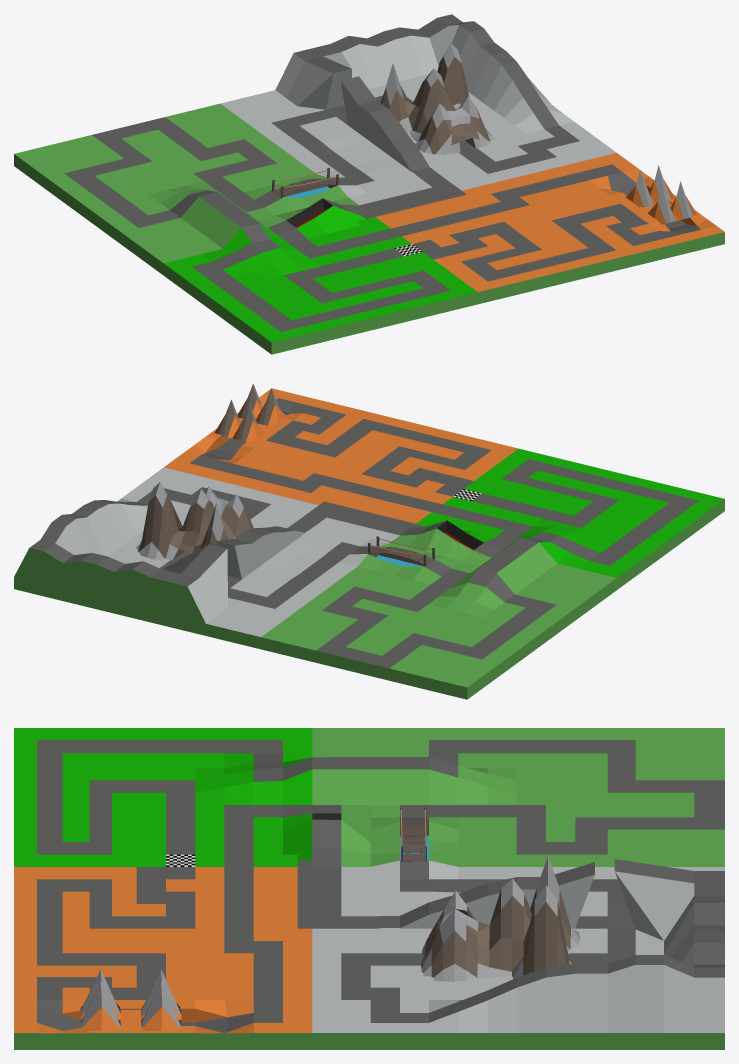
Rendered from sceneCoursePenteModifies.fbx.
3 renders of one model, top to bottom at view 1: azimuth 30°, elevation 25°; view 2: azimuth 150°, elevation 25°; view 3: azimuth 270°, elevation 25°, orthographic. The views are drawn at different scales.
Visible parts, largest first — view 1: Plane, Mountain, MountainUnder; view 2: Plane, Mountain, MountainUnder; view 3: Plane, Mountain, MountainUnder.
Boxes of the visible parts, <box> form: Plane: <box>14,14,724,354</box>; Mountain: <box>380,43,494,154</box>; MountainUnder: <box>626,165,697,224</box>; Plane: <box>14,388,724,699</box>; Mountain: <box>136,482,253,560</box>; MountainUnder: <box>214,383,286,441</box>; Plane: <box>14,728,724,1049</box>; Mountain: <box>421,856,580,981</box>; MountainUnder: <box>80,969,181,1031</box>.
Bounding box in the file's own units: 14586 × 2675 × 14363.
Materials: 16 (3 with a texture image).
